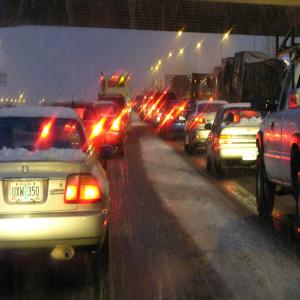Vehicle-registration-plate: (8, 181, 42, 212), (243, 151, 259, 161)
